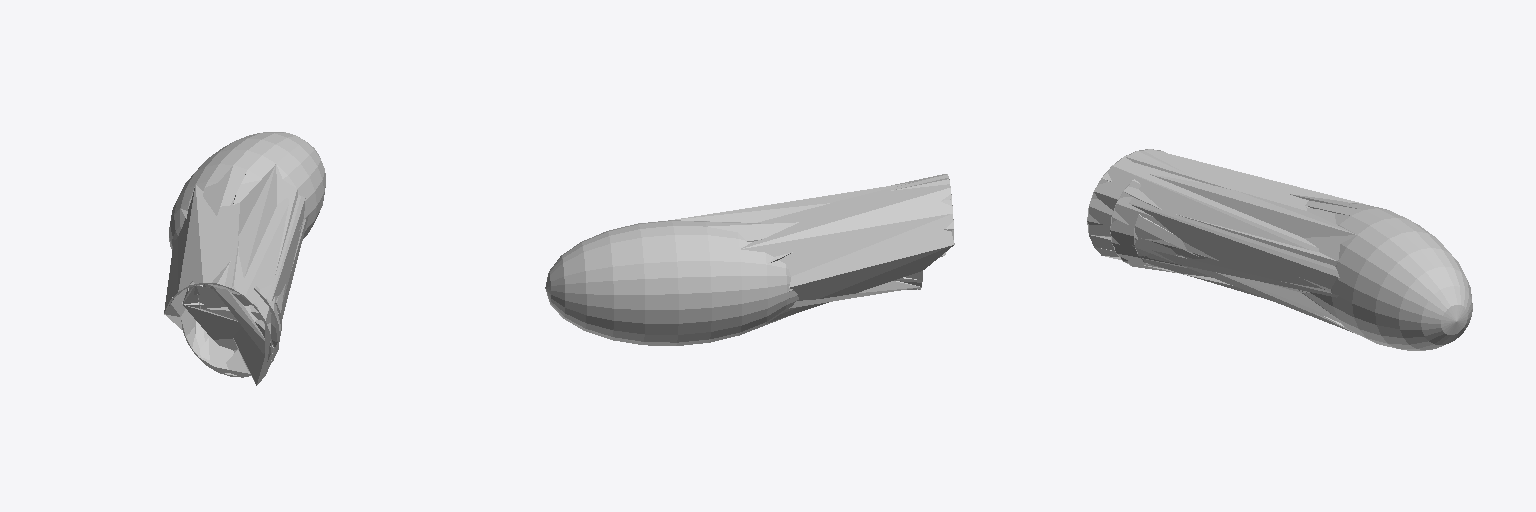
Rendered from Peanut.obj.
The picture shows the model from 3 angles: view 1: azimuth 30°, elevation 25°; view 2: azimuth 150°, elevation 25°; view 3: azimuth 270°, elevation 25°; orthographic projection.
Parts seen in each view (by area): view 1: Cylinder001, Sphere001, Cylinder002; view 2: Sphere001, Cylinder001, Cylinder002; view 3: Cylinder001, Sphere001, Cylinder002.
Part boxes in pixels (x1,y1,x2,y2): Cylinder001: (164,164,308,385); Sphere001: (169,132,325,248); Cylinder002: (166,164,304,376); Sphere001: (545,220,790,345); Cylinder001: (675,174,954,333); Cylinder002: (550,221,952,308); Cylinder001: (1087,149,1365,313); Sphere001: (1331,203,1472,350); Cylinder002: (1087,149,1464,333).
Bounding box in the file's own units: 1328444 × 522854 × 1593264.